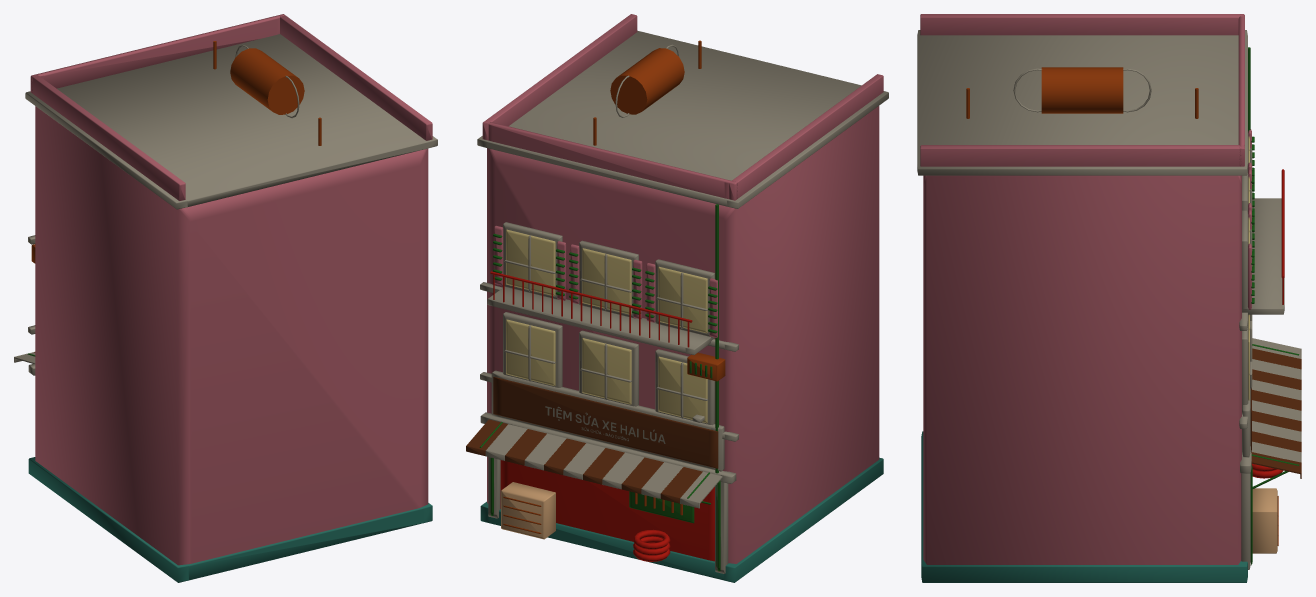
File: PV_StreetShop09.fbx
3 views of the same model, side by side, from view 1: azimuth 30°, elevation 25°; view 2: azimuth 150°, elevation 25°; view 3: azimuth 270°, elevation 25° (orthographic). The views are drawn at different scales.
Visible parts, largest first — view 1: PV_StreetShop09_LOD0; view 2: PV_StreetShop09_LOD0; view 3: PV_StreetShop09_LOD0.
Part boxes in pixels (<box>): PV_StreetShop09_LOD0: <box>14,14,437,582</box>; PV_StreetShop09_LOD0: <box>466,14,888,582</box>; PV_StreetShop09_LOD0: <box>917,14,1301,582</box>.
Size of what is drawn, in the model's own units: 8.05 by 12.6 by 9.42.
1 material, 1 textured.
